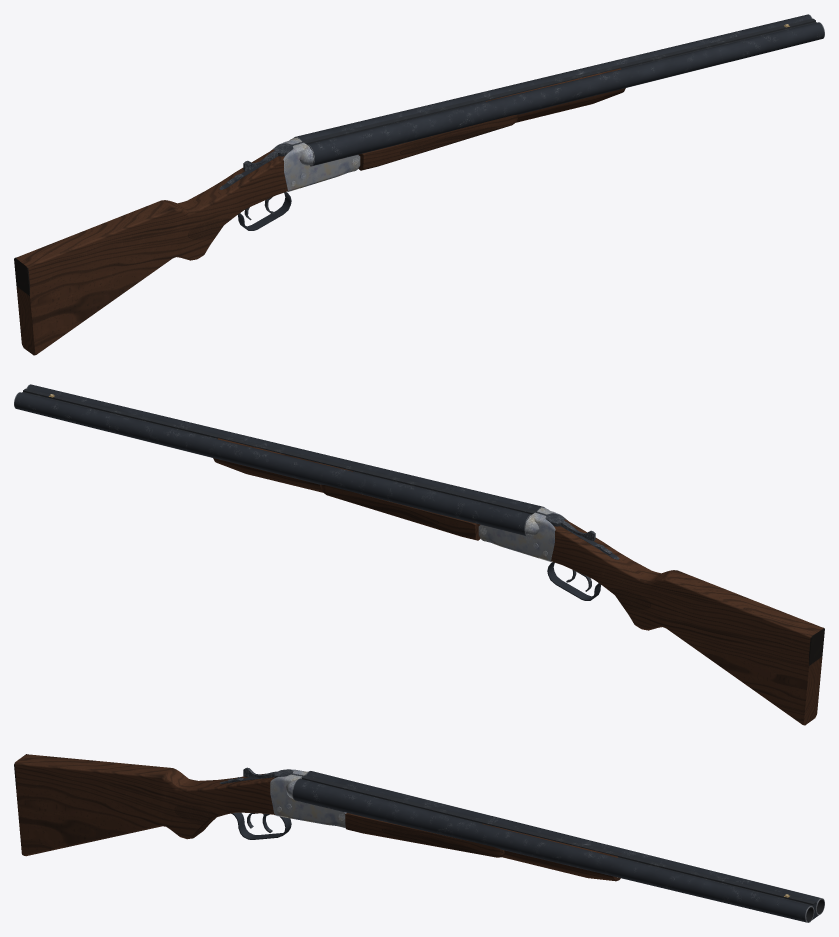
File: shotgun_double.glb
The picture shows the model from 3 angles, top to bottom: view 1: azimuth 30°, elevation 25°; view 2: azimuth 150°, elevation 25°; view 3: azimuth 330°, elevation 25°; orthographic projection.
Parts seen in each view (by area): view 1: shotgun_double, shotgun_double_barrels; view 2: shotgun_double, shotgun_double_barrels; view 3: shotgun_double, shotgun_double_barrels.
Boxes of the visible parts, left/top/right/bottom form: shotgun_double: left=14, top=137, right=360, bottom=355; shotgun_double_barrels: left=292, top=14, right=824, bottom=170; shotgun_double: left=478, top=507, right=824, bottom=725; shotgun_double_barrels: left=14, top=384, right=546, bottom=540; shotgun_double: left=14, top=754, right=346, bottom=856; shotgun_double_barrels: left=292, top=771, right=824, bottom=922.
Size of the model in its own units: 1.08 by 0.1864 by 0.0517.
3 materials, 3 textured.
